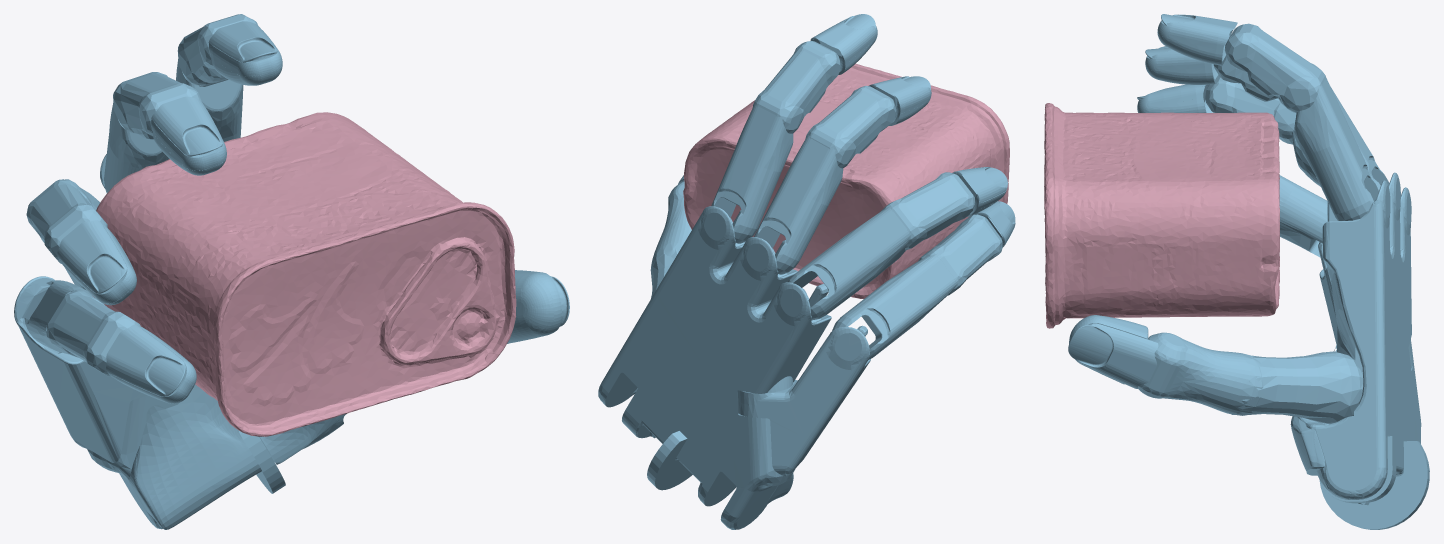
3 views of the same model, side by side, from view 1: azimuth 30°, elevation 25°; view 2: azimuth 150°, elevation 25°; view 3: azimuth 270°, elevation 25° (orthographic). The views are drawn at different scales.
Parts seen in each view (by area): view 1: potted_meat_can.stl, world; view 2: world, potted_meat_can.stl; view 3: world, potted_meat_can.stl.
Part boxes in pixels (x1,y1,x2,y2): potted_meat_can.stl: [93, 112, 516, 436]; world: [14, 14, 569, 529]; world: [598, 14, 1015, 529]; potted_meat_can.stl: [683, 63, 1009, 298]; world: [1068, 14, 1429, 529]; potted_meat_can.stl: [1044, 103, 1279, 328].
Bounding box in the file's own units: 0.1468 × 0.1883 × 0.1366.
